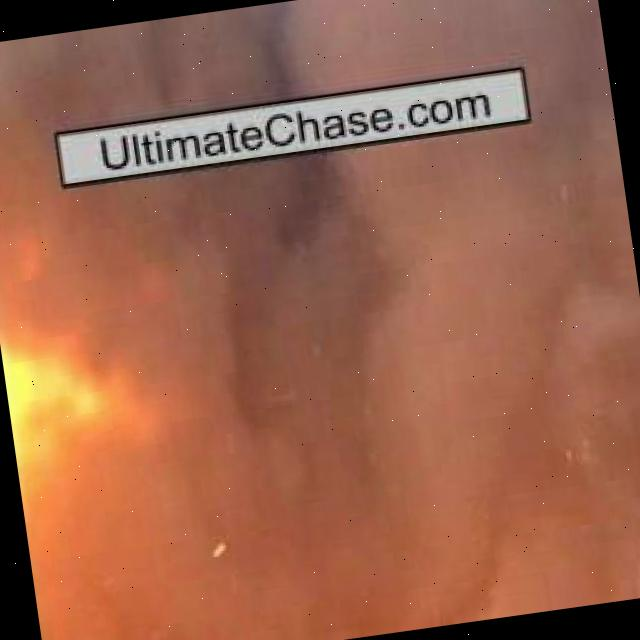fire: (0, 172, 256, 534)
